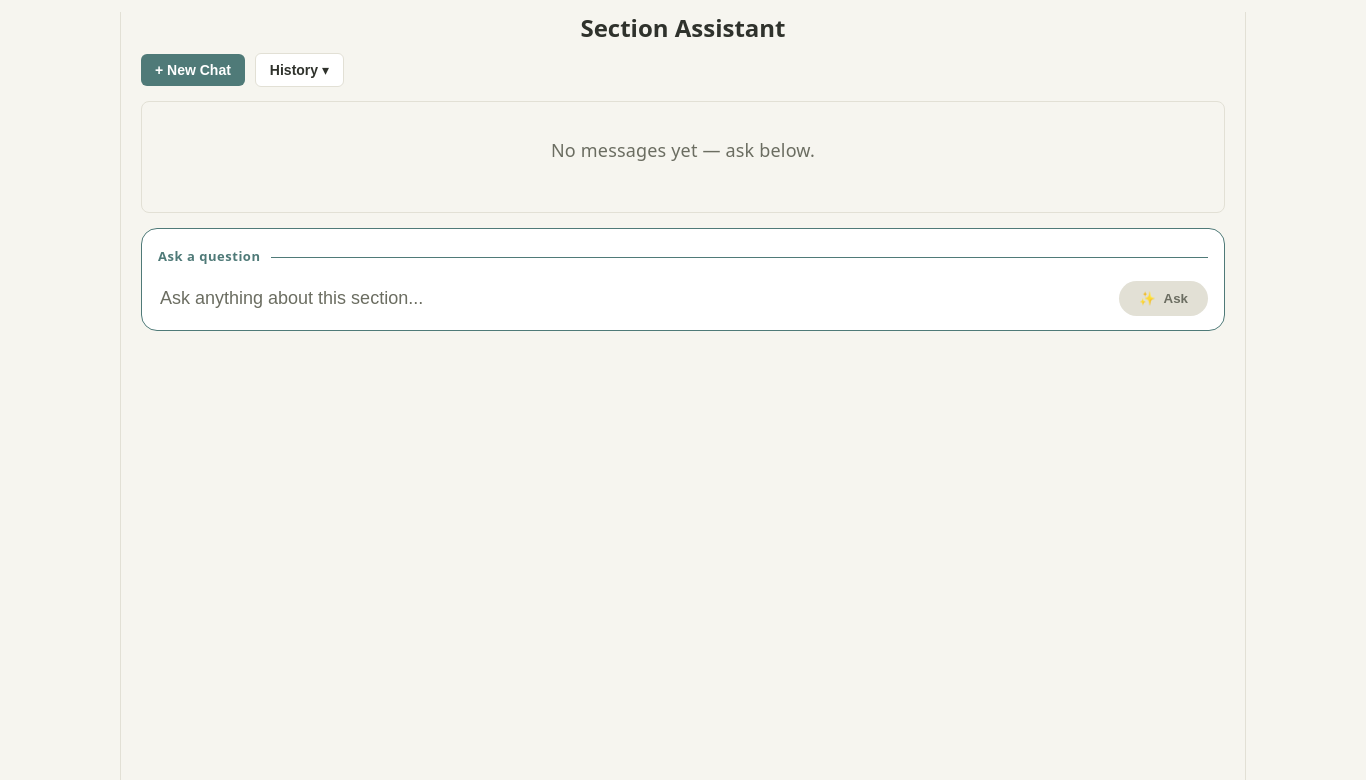
SectionAssistantPanel Component › displays error message when API fails
Type "Hello" into the field with placeholder "Ask anything about this section...".
click(632, 299); type("Hello")  # box [158, 287, 1107, 310]
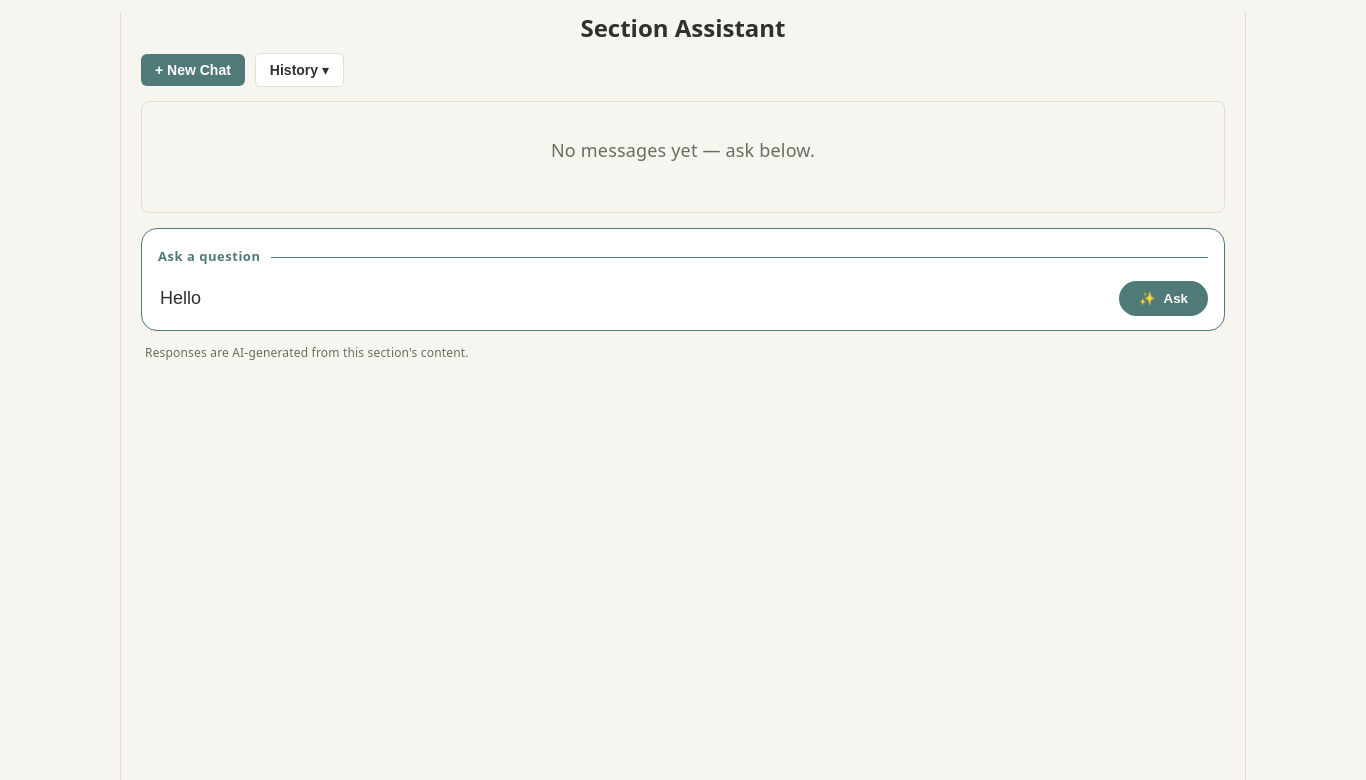
Click the button "✨ Ask".
click(1163, 299)  # box [1119, 281, 1208, 316]
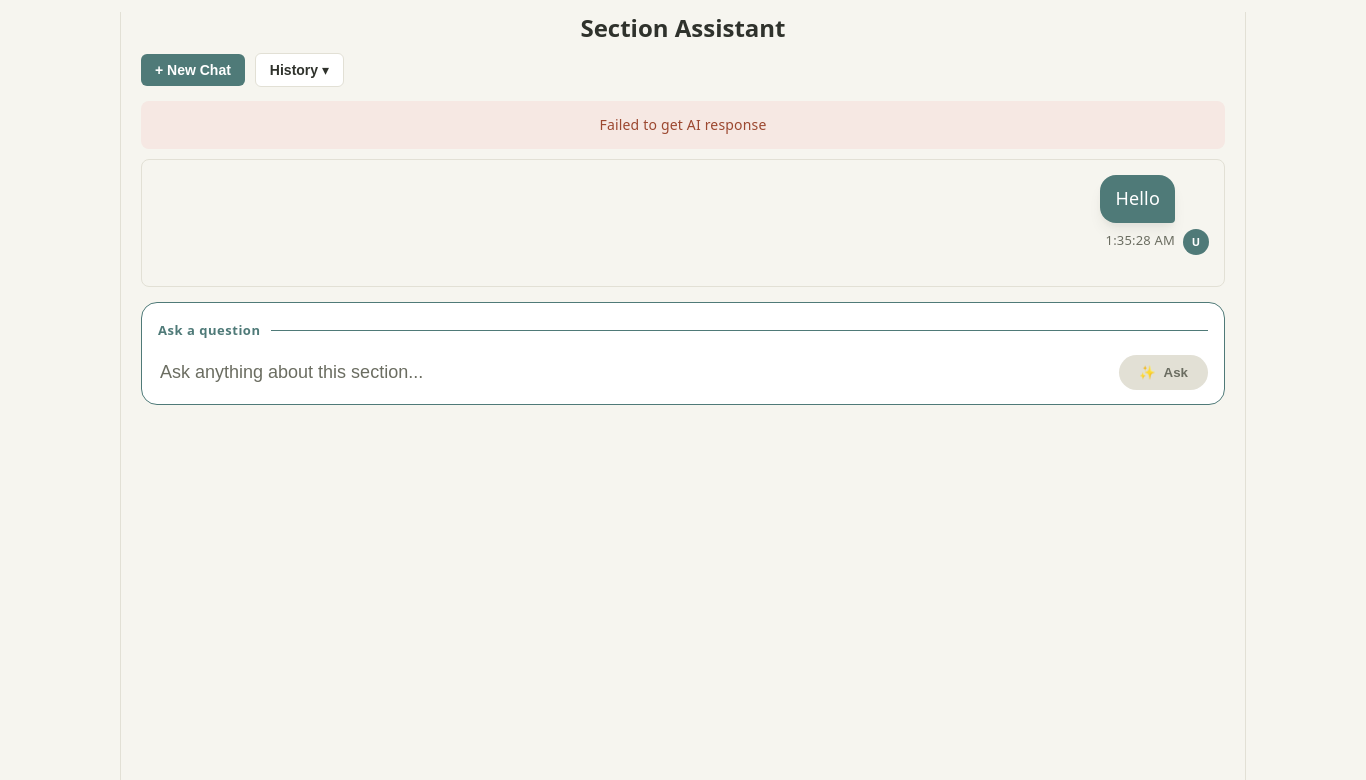
Now the text "Failed to get AI response" is shown, box [141, 101, 1225, 149]
